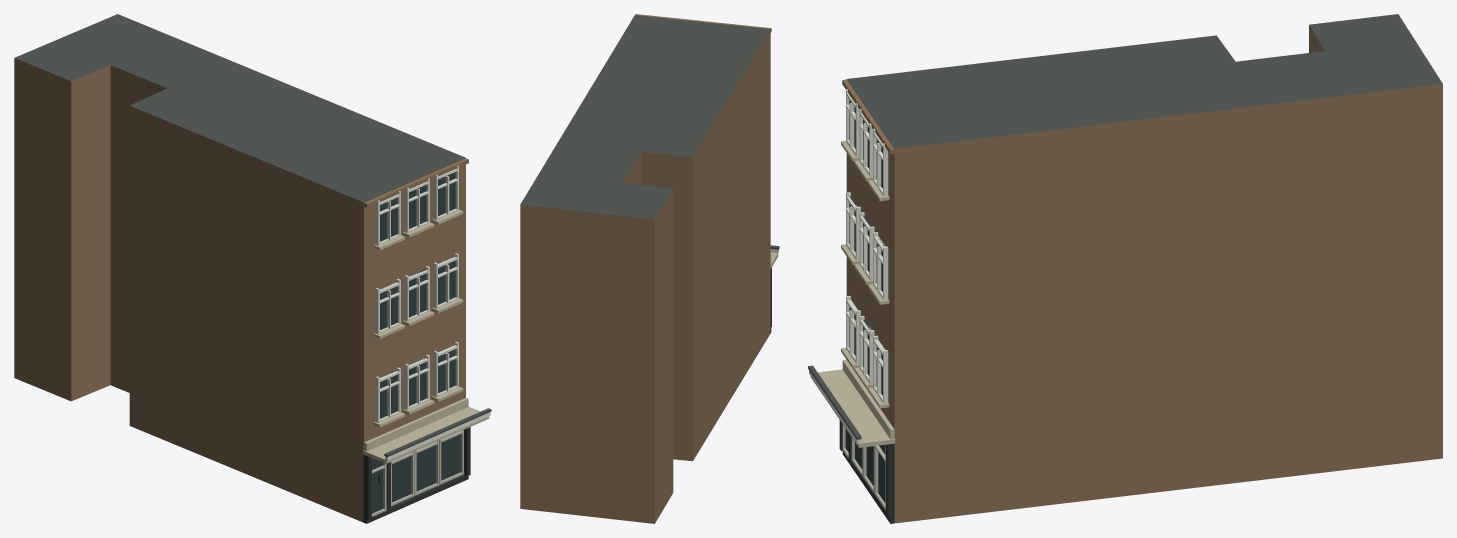
The picture shows the model from 3 angles, left to right: view 1: azimuth 30°, elevation 25°; view 2: azimuth 150°, elevation 25°; view 3: azimuth 270°, elevation 25°; orthographic projection. The views are drawn at different scales.
Parts seen in each view (by area): view 1: jan-evertsen-native-0363100012096187; view 2: jan-evertsen-native-0363100012096187; view 3: jan-evertsen-native-0363100012096187.
Boxes of the visible parts, x1,y1,x2,y2 form: jan-evertsen-native-0363100012096187: (14,14,491,523); jan-evertsen-native-0363100012096187: (520,14,779,523); jan-evertsen-native-0363100012096187: (808,14,1442,523).
Size of the model in its own units: 11.59 by 14.43 by 22.17.
